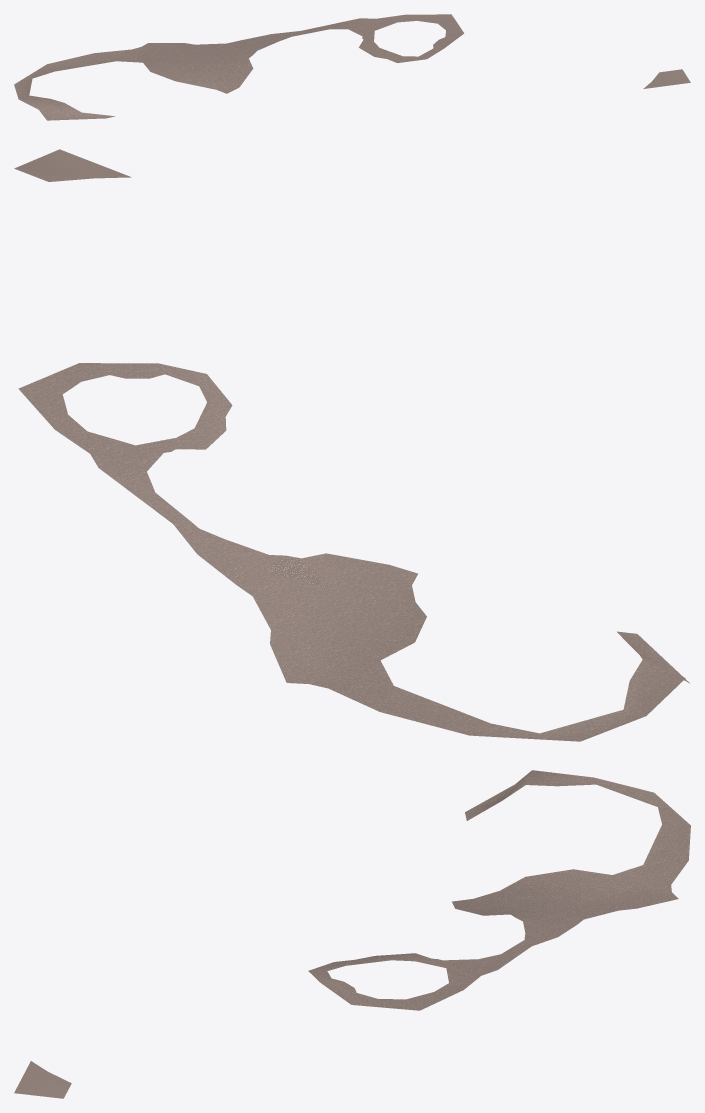
The model's file is kd_stage_13612f_0_10.glb.
The picture shows the model from 3 angles, top to bottom: view 1: azimuth 30°, elevation 25°; view 2: azimuth 150°, elevation 25°; view 3: azimuth 270°, elevation 25°; orthographic projection. The views are drawn at different scales.
Visible parts, largest first — view 1: kd_stage_13612f_0_10; view 2: kd_stage_13612f_0_10; view 3: kd_stage_13612f_0_10.
Part boxes in pixels (bbox=[...]): kd_stage_13612f_0_10: bbox=[14, 14, 690, 120]; kd_stage_13612f_0_10: bbox=[14, 149, 690, 741]; kd_stage_13612f_0_10: bbox=[14, 770, 690, 1098].
Size of the model in its own units: 85.62 by 6.24 by 65.28.
1 material, 1 textured.
